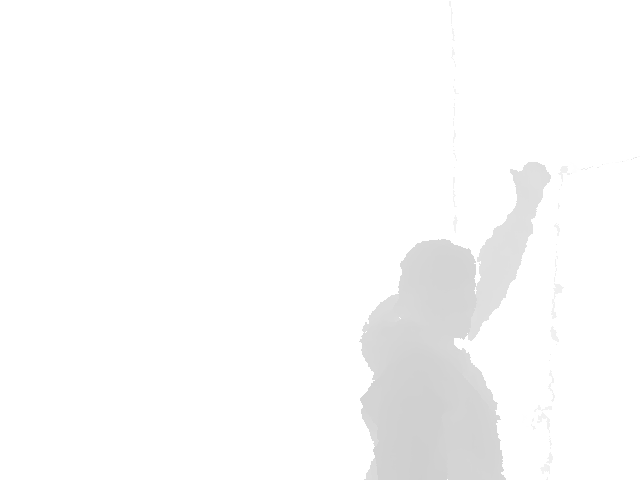hand: (509, 160, 554, 206)
head: (400, 238, 480, 340)
person: (358, 160, 553, 480)
